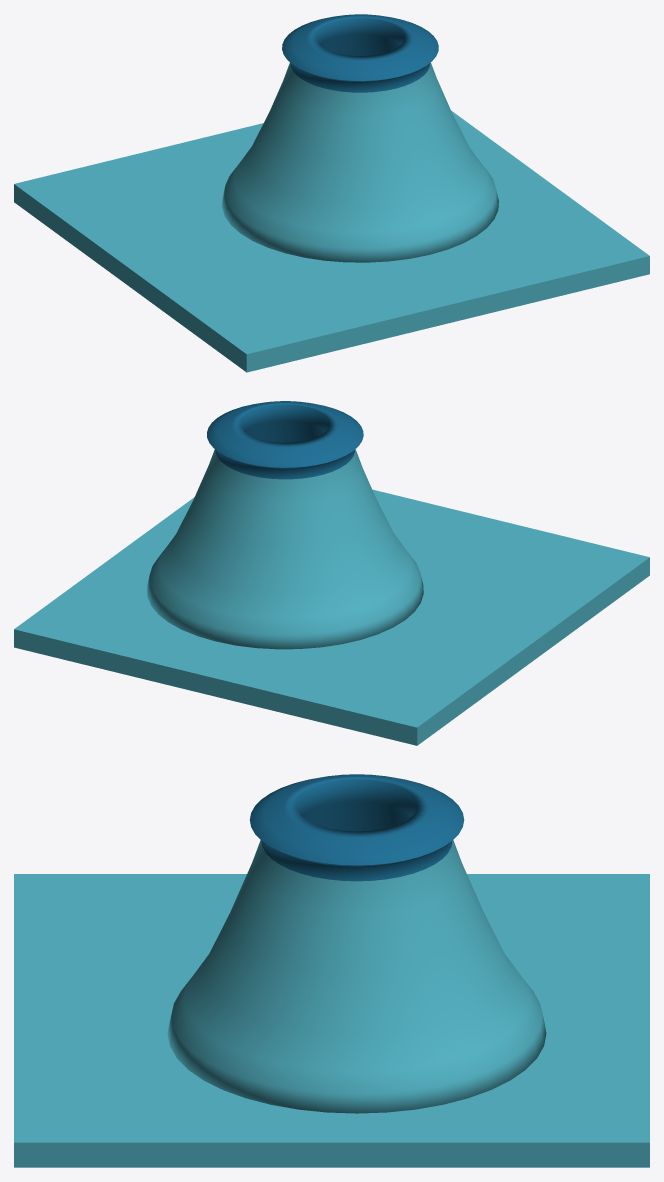
Rendered from factory_building-2.gltf.
3 renders of one model, top to bottom at view 1: azimuth 30°, elevation 25°; view 2: azimuth 150°, elevation 25°; view 3: azimuth 270°, elevation 25°, orthographic. The views are drawn at different scales.
Visible parts, largest first — view 1: pCube16, pCylinder12; view 2: pCube16, pCylinder12; view 3: pCube16, pCylinder12.
Boxes of the visible parts, box(x1,y1,x2,y2) form: pCube16: box(14, 110, 649, 372); pCylinder12: box(222, 14, 498, 262); pCube16: box(14, 489, 649, 745); pCylinder12: box(146, 401, 423, 649); pCube16: box(14, 874, 649, 1167); pCylinder12: box(167, 774, 546, 1113).
Bounding box in the file's own units: 1.47 × 0.6457 × 1.47.
